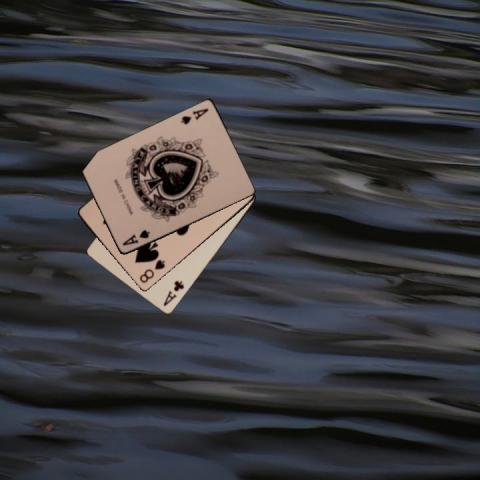8s: (136, 256, 166, 284)
Ac: (160, 278, 185, 308)
As: (177, 105, 210, 126), (120, 227, 152, 247)
